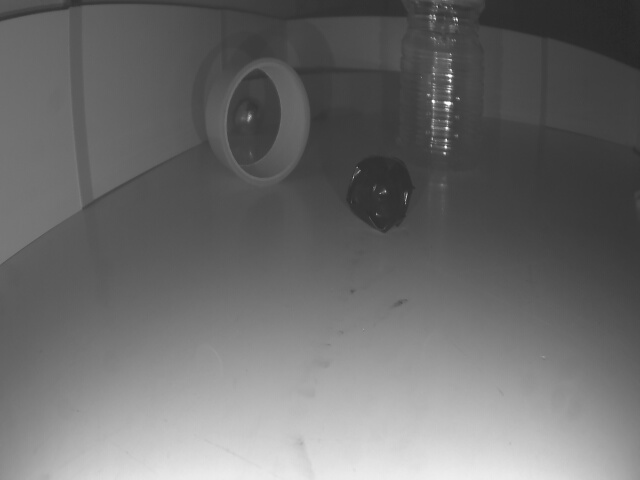Dead: (350, 157, 412, 229)
Live: (236, 97, 263, 136)
Point: (240, 71, 412, 124)
